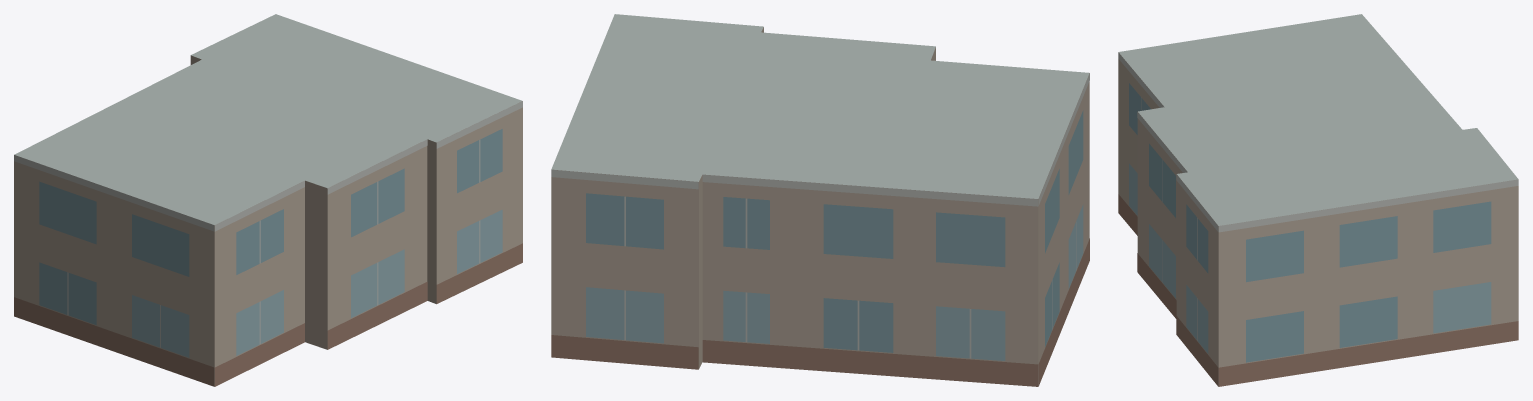
Rendered from survey-upis-32842297.glb.
The picture shows the model from 3 angles, left to right: view 1: azimuth 30°, elevation 25°; view 2: azimuth 150°, elevation 25°; view 3: azimuth 270°, elevation 25°; orthographic projection. The views are drawn at different scales.
Parts seen in each view (by area): view 1: survey-upis-32842297.tmp; view 2: survey-upis-32842297.tmp; view 3: survey-upis-32842297.tmp.
Part boxes in pixels (box(x1,y1,x2,y2)): survey-upis-32842297.tmp: box(14, 14, 522, 386); survey-upis-32842297.tmp: box(551, 14, 1089, 386); survey-upis-32842297.tmp: box(1118, 14, 1518, 386).
Size of the model in its own units: 17.26 by 6.1 by 13.77.
